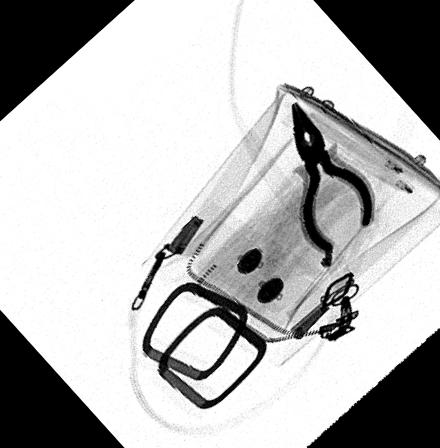Pliers: (292, 98, 375, 255)
